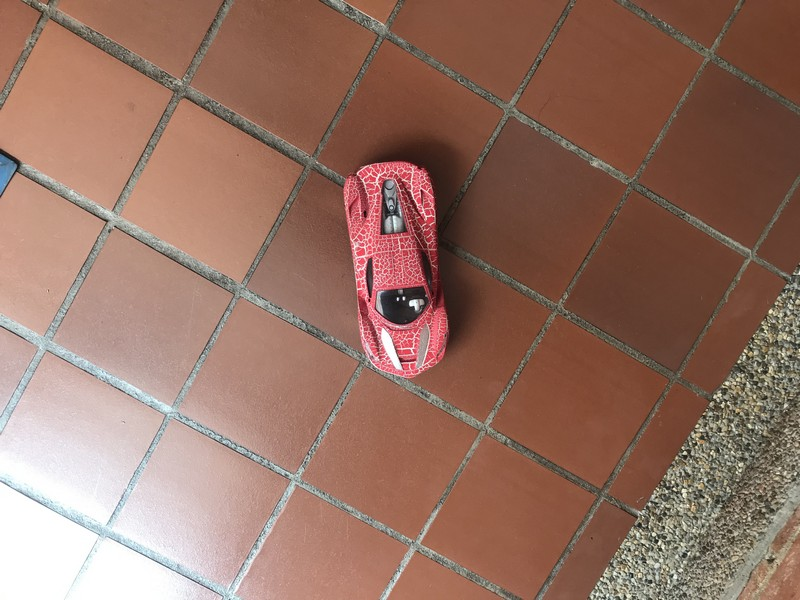RC: (339, 158, 454, 382)
